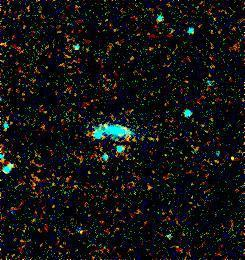star: (218, 141, 245, 171)
